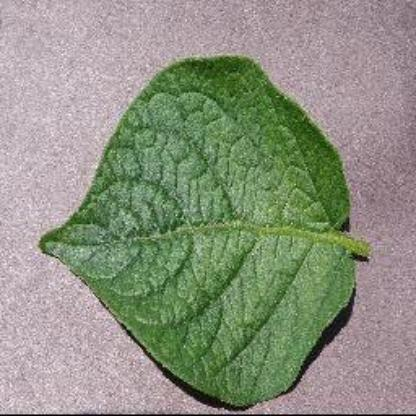Healthy-plant: (34, 48, 386, 410)
